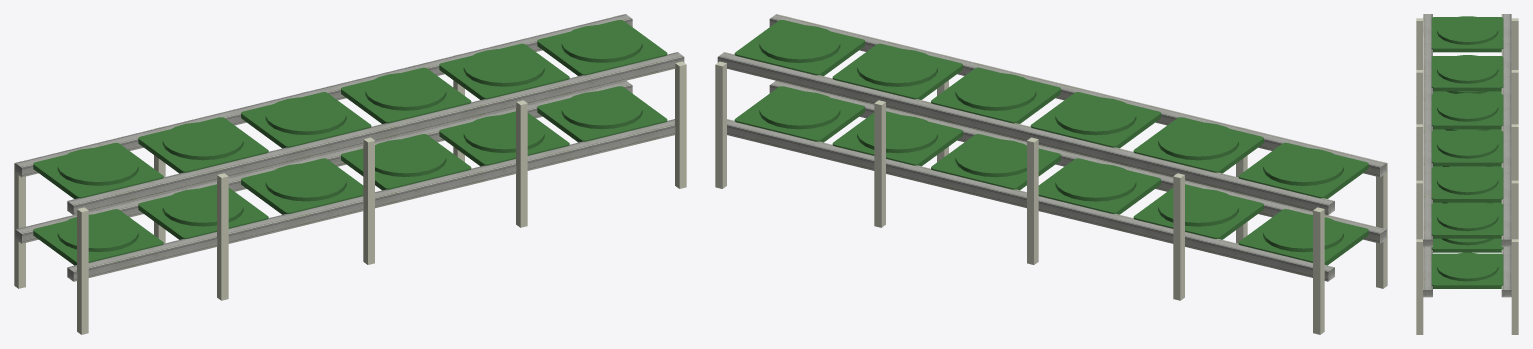
Rendered from 组装线_B1_线头设备1 1.fbx.
3 views of the same model, side by side, from view 1: azimuth 30°, elevation 25°; view 2: azimuth 150°, elevation 25°; view 3: azimuth 270°, elevation 25° (orthographic). The views are drawn at different scales.
Visible parts, largest first — view 1: Line003; view 2: Line003; view 3: Line003.
Part boxes in pixels (x1,y1,x2,y2): Line003: (14, 14, 686, 334); Line003: (715, 14, 1387, 334); Line003: (1416, 14, 1518, 334).
Size of the model in its own units: 102 by 21.26 by 19.52.
Materials: 3 (3 with a texture image).
